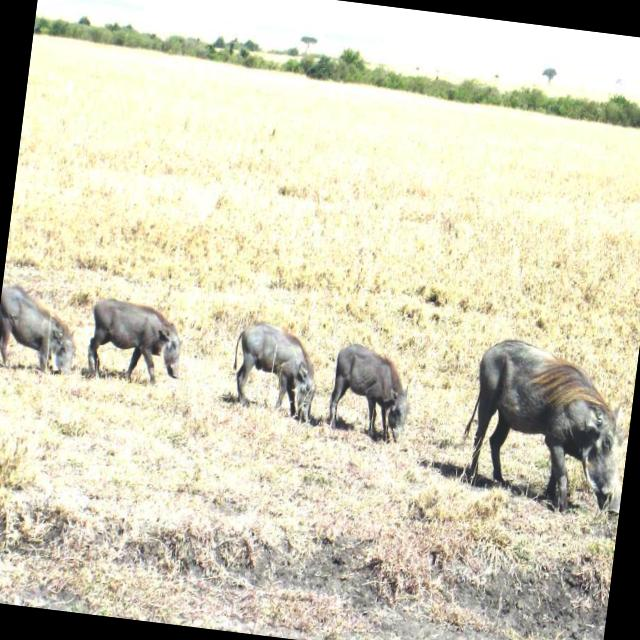pig: (469, 339, 621, 512), (87, 299, 180, 383), (236, 322, 315, 419), (330, 344, 407, 440), (0, 286, 74, 373)
